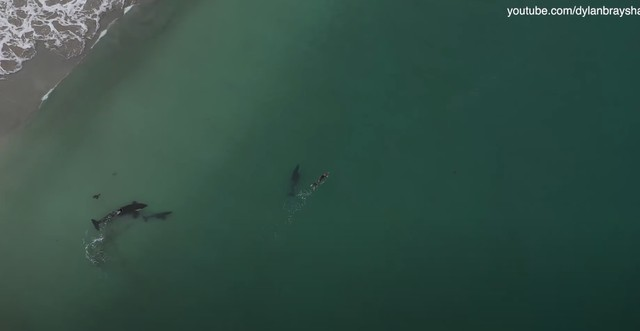whale: (85, 196, 146, 234), (281, 158, 302, 200), (307, 166, 333, 198), (142, 210, 177, 225)
